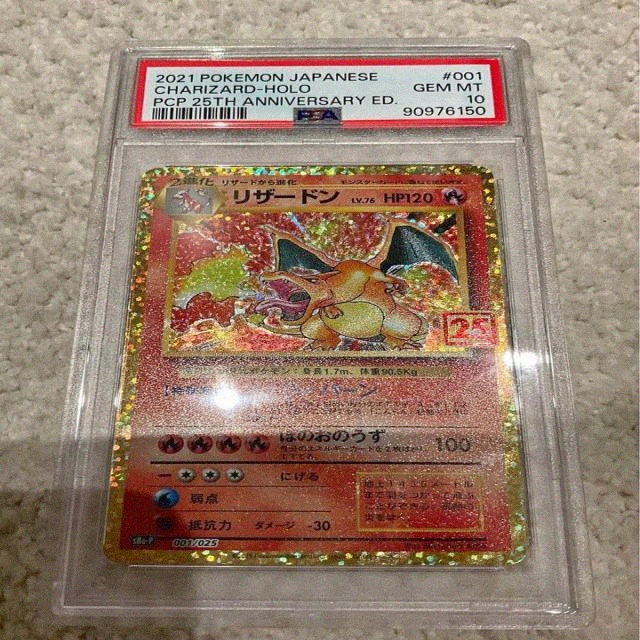card: (101, 164, 533, 569)
